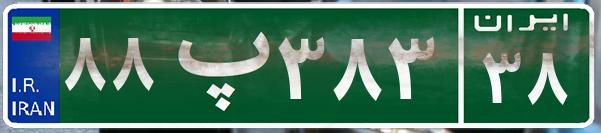3: (385, 28, 445, 110), (273, 28, 330, 110), (475, 38, 525, 113)
8: (330, 28, 385, 110), (57, 26, 110, 107), (110, 28, 158, 105), (525, 38, 570, 115)
پ: (158, 15, 273, 115)
